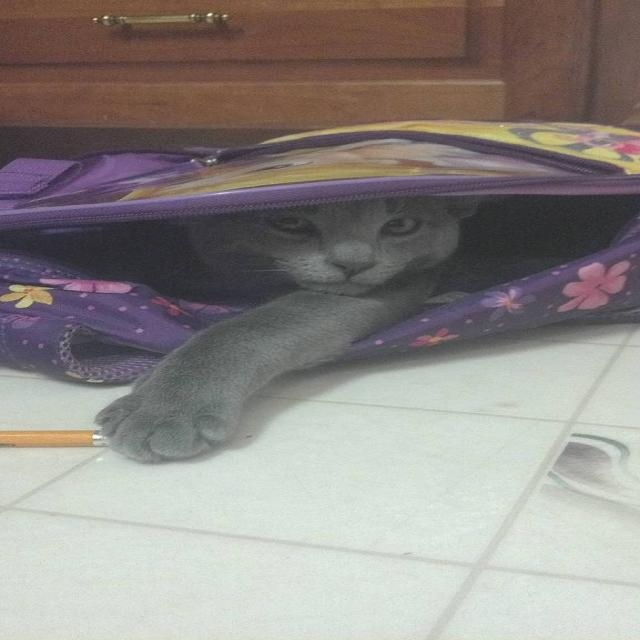cat: (91, 168, 542, 468)
